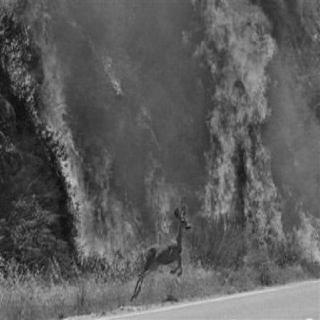Fire: (2, 0, 316, 273)
